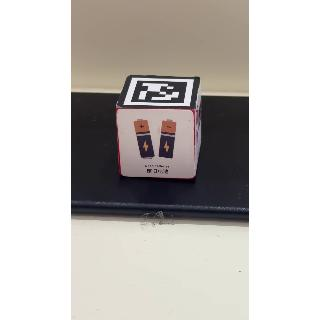Used_Battery: (119, 110, 198, 181)
